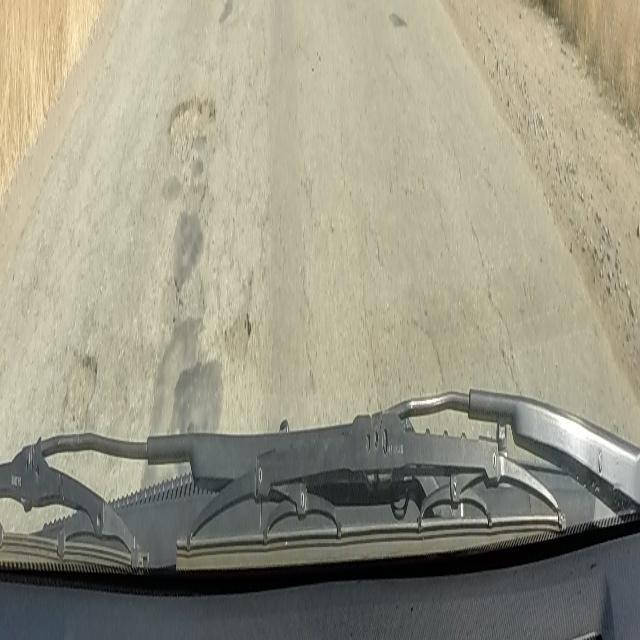pothole: (168, 77, 216, 157), (64, 350, 100, 422), (220, 291, 253, 357)
